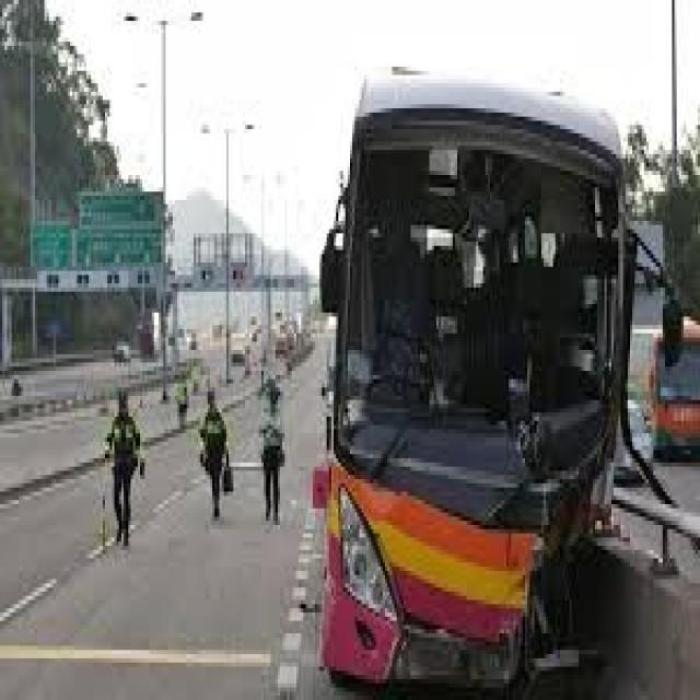Accident: (329, 87, 661, 699)
